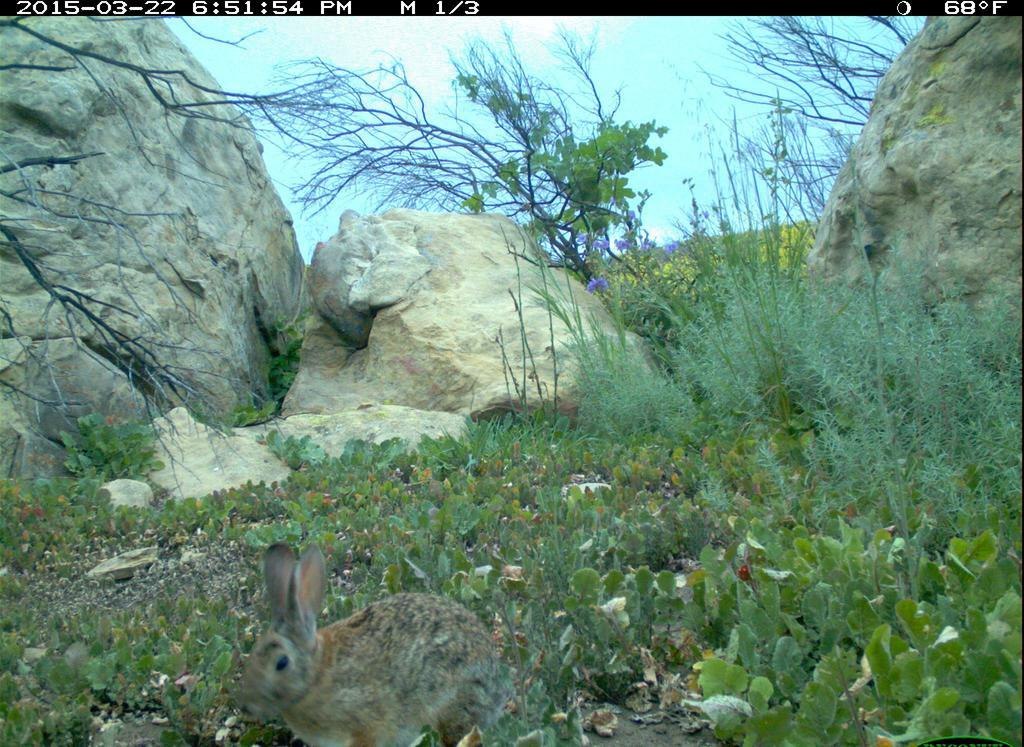rabbit: (219, 539, 514, 738)
